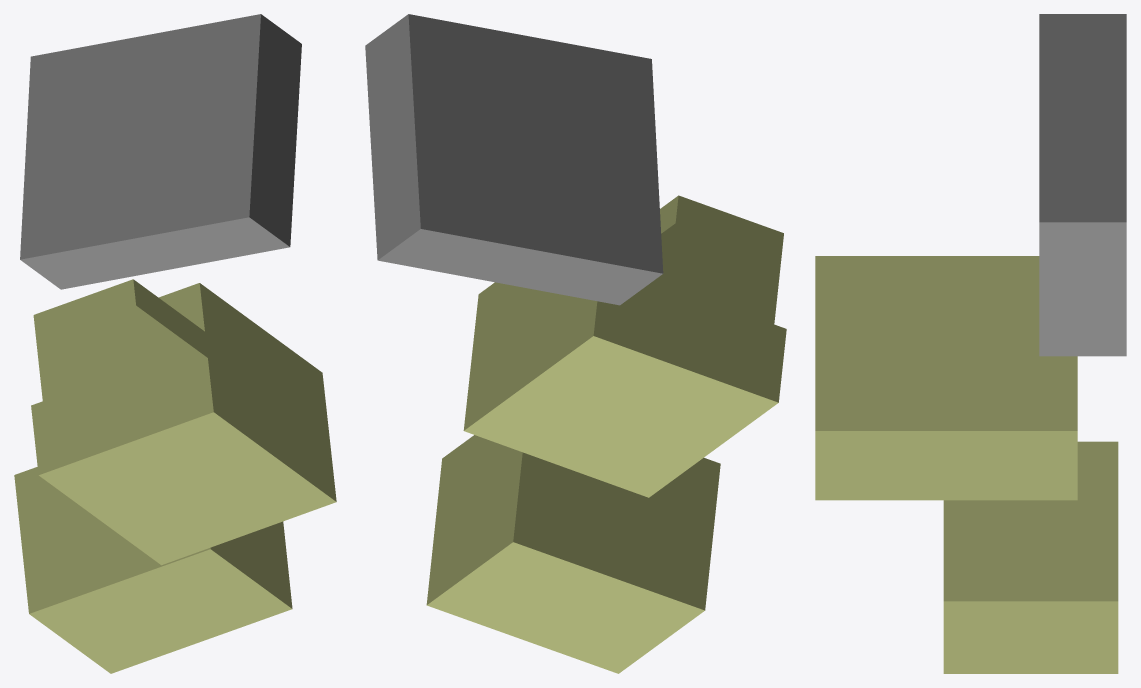
3 renders of one model, left to right at view 1: azimuth 30°, elevation 25°; view 2: azimuth 150°, elevation 25°; view 3: azimuth 270°, elevation 25°, orthographic. The views are drawn at different scales.
Parts seen in each view (by area): view 1: 0_1_2_0_0_2_2_0_1_3; view 2: 0_1_2_0_0_2_2_0_1_3; view 3: 0_1_2_0_0_2_2_0_1_3.
Boxes of the visible parts, x1=… form: 0_1_2_0_0_2_2_0_1_3: x1=14, y1=14, x2=336, y2=673; 0_1_2_0_0_2_2_0_1_3: x1=365, y1=14, x2=786, y2=673; 0_1_2_0_0_2_2_0_1_3: x1=815, y1=14, x2=1126, y2=673.
Size of the model in its own units: 10.7 by 22.35 by 10.68.
